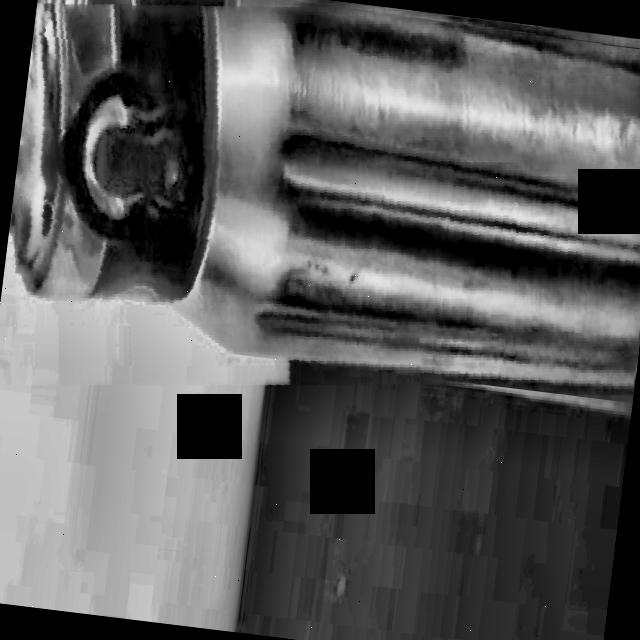bottle: (13, 1, 640, 390)
